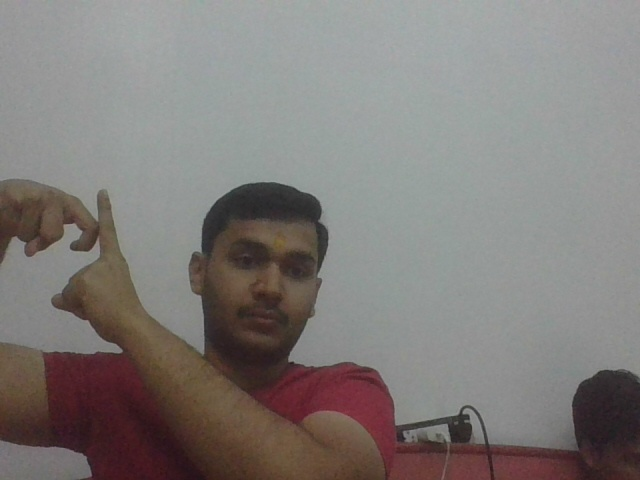K: (50, 182, 130, 278)
